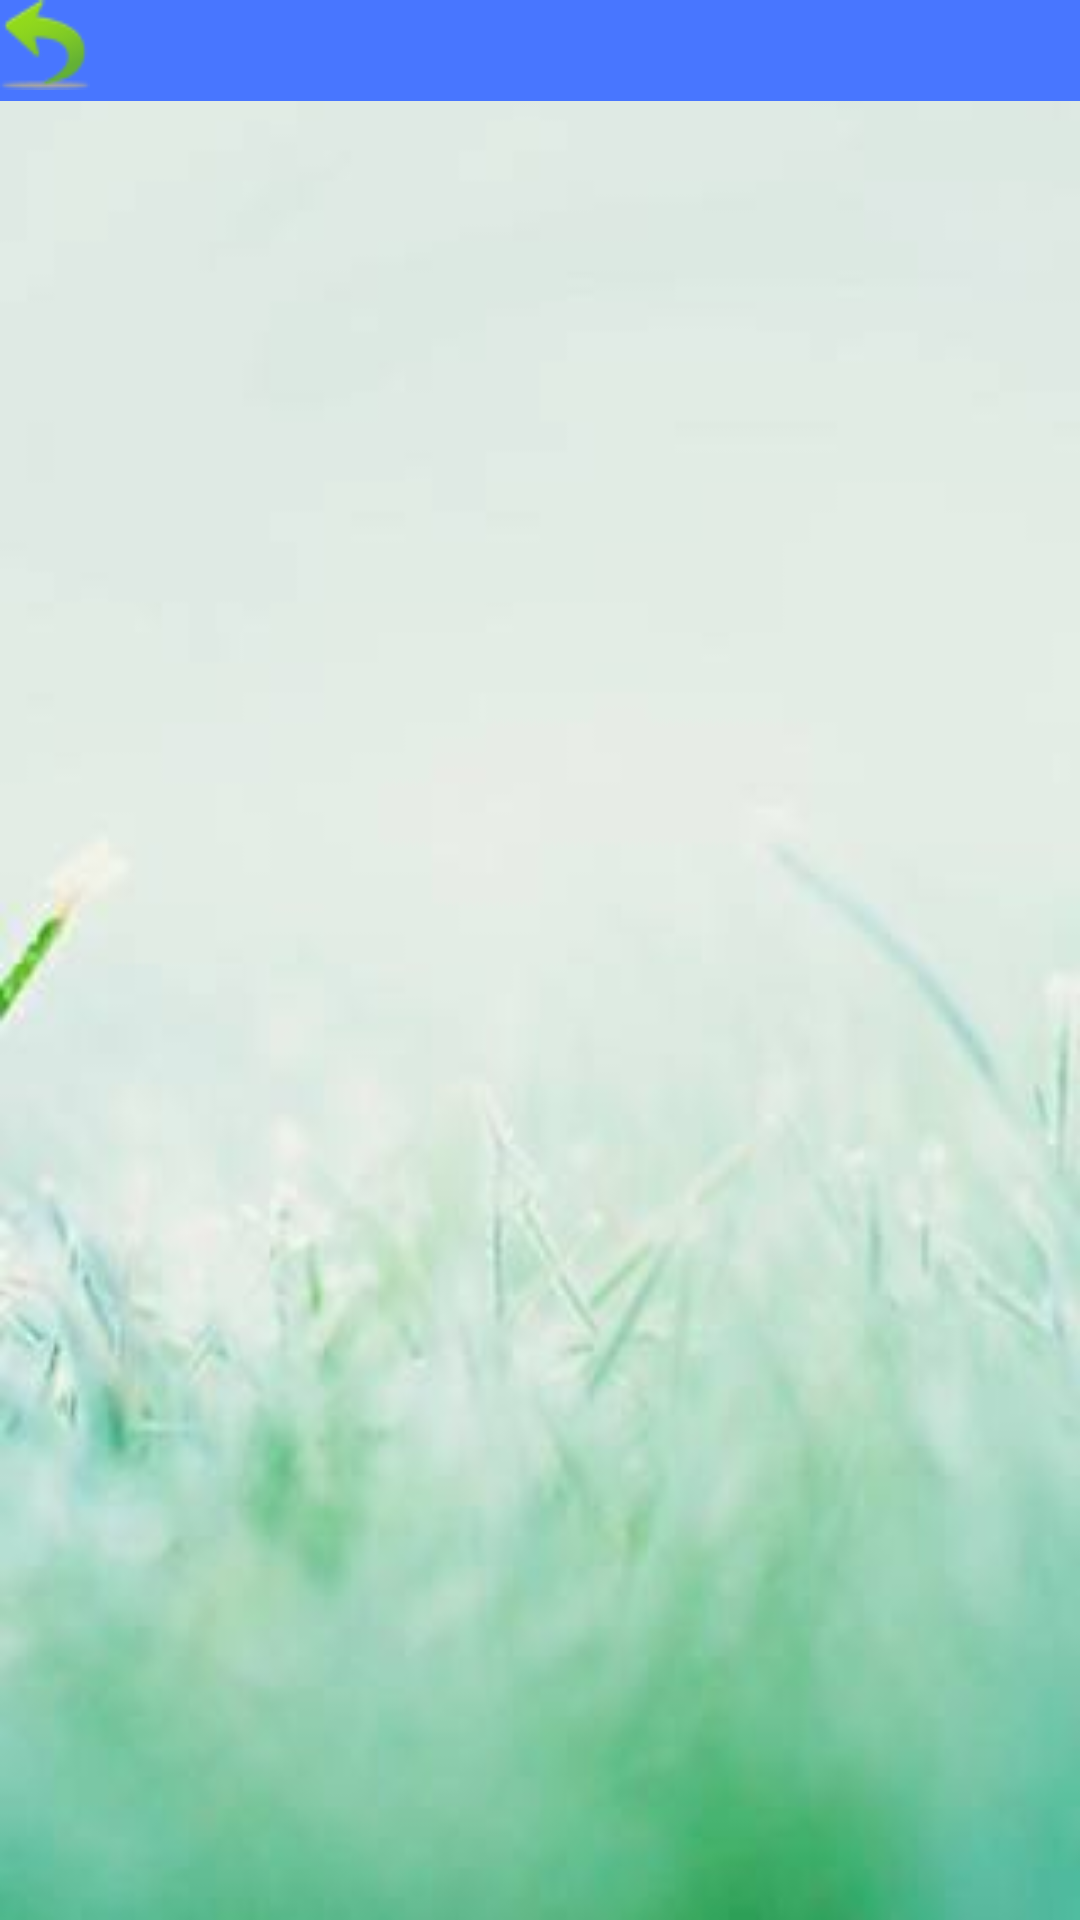

Screen size 1080 × 1920. Icon name, then its center in pixels as (x=x, y=y):
ret: (x=45, y=45)
